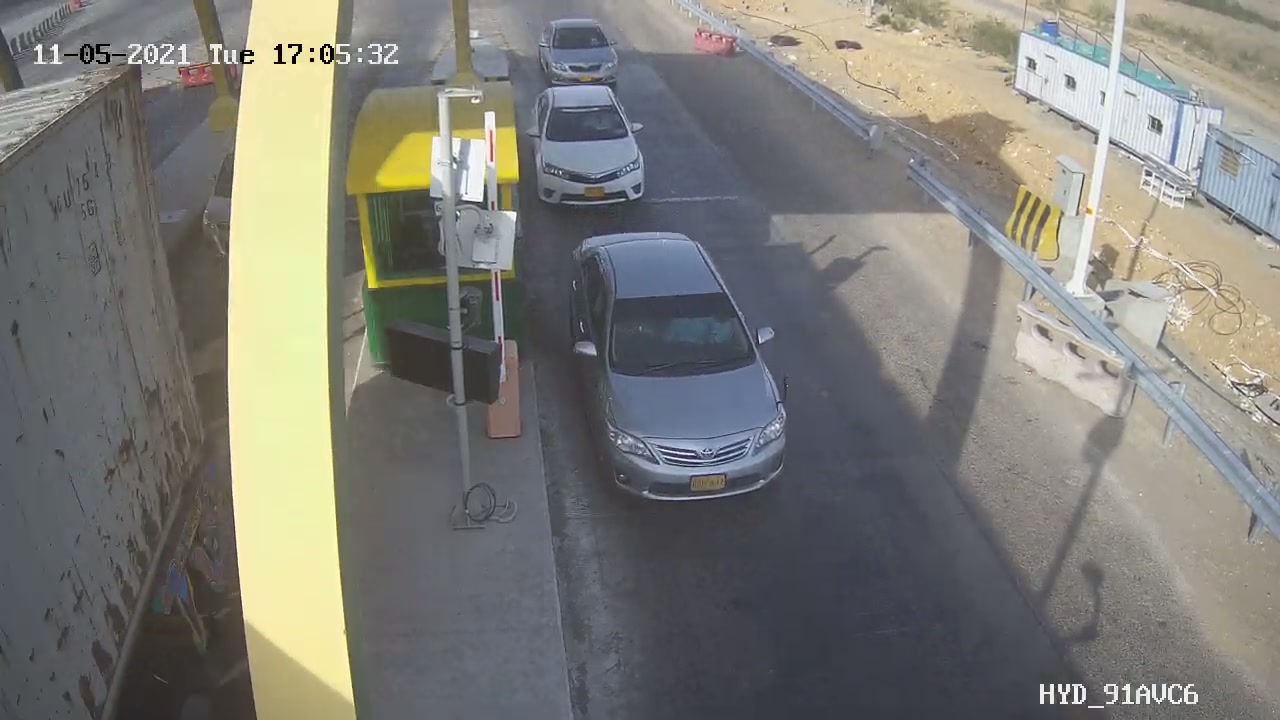F1: (543, 216, 824, 526), (508, 74, 668, 222)
